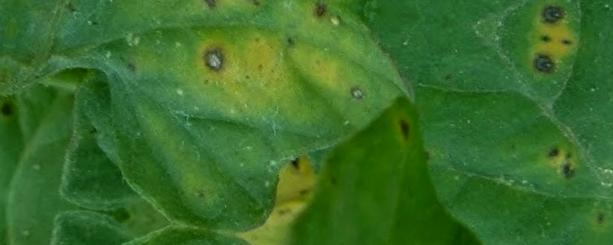Tomato Septoria leaf spot: (0, 0, 434, 245)
